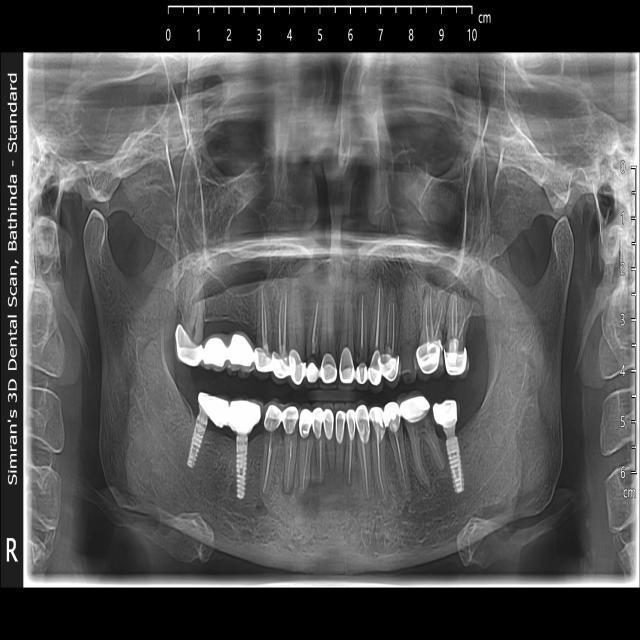implant: (224, 394, 258, 500), (432, 394, 468, 494), (186, 388, 226, 476)
kanal-tedavisi: (272, 288, 295, 350), (446, 292, 471, 342), (419, 292, 444, 340), (390, 425, 406, 491), (262, 428, 277, 492), (358, 439, 374, 497), (373, 430, 387, 493), (384, 298, 399, 354), (305, 300, 320, 355), (358, 292, 370, 360), (373, 279, 384, 349), (299, 432, 312, 491), (344, 434, 357, 487), (314, 435, 328, 482), (285, 432, 297, 486), (260, 291, 272, 343)
kaplama: (178, 320, 204, 368), (398, 393, 432, 427), (444, 340, 470, 378), (417, 338, 443, 375), (287, 348, 309, 383), (337, 350, 358, 386), (380, 398, 402, 430), (381, 352, 402, 382), (319, 351, 338, 383), (261, 403, 282, 431), (254, 348, 274, 377), (272, 349, 292, 378), (355, 405, 371, 440), (284, 404, 300, 439), (368, 406, 386, 434), (368, 350, 383, 383), (311, 405, 327, 435), (321, 406, 336, 437), (299, 408, 313, 440), (335, 404, 346, 444), (305, 357, 321, 384), (346, 406, 357, 438), (358, 359, 370, 385)
kopru: (193, 326, 266, 376)
